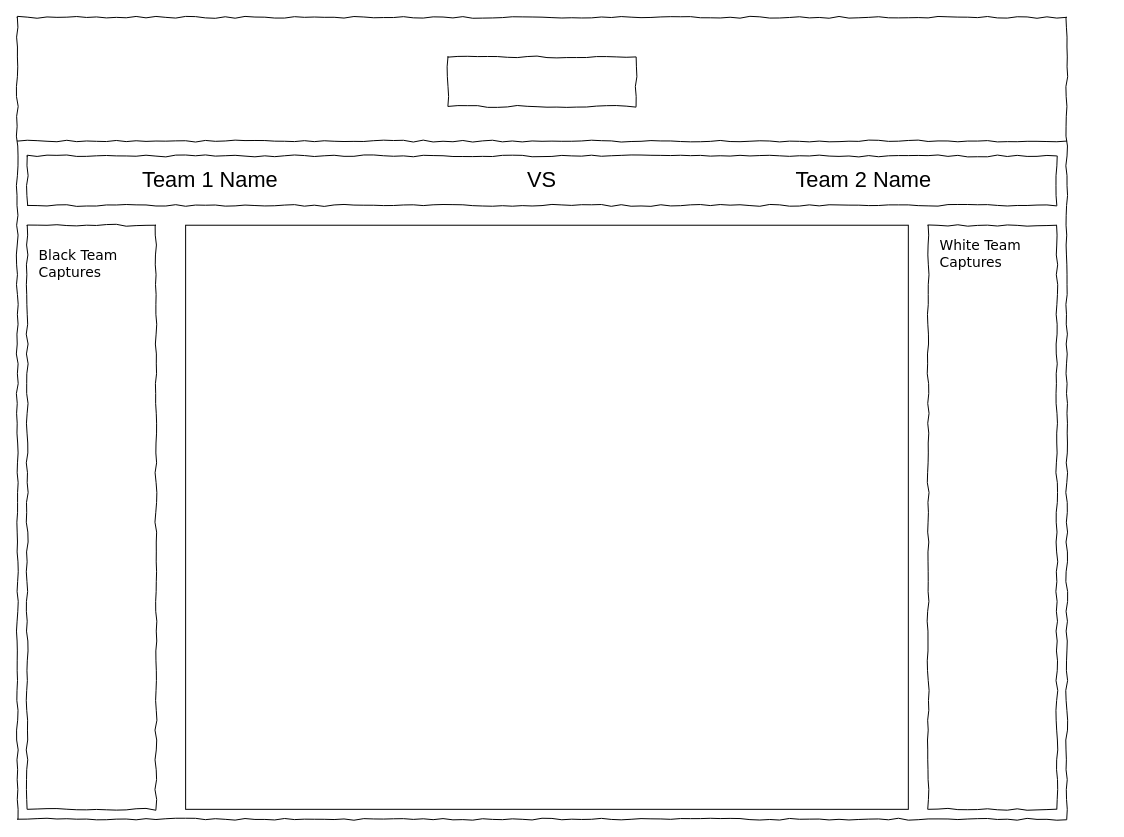
The diagram is 1124 pixels wide and 837 high, and some of its shapes have lost their labels. The shapes that lost their labels are listed below. From the top down, each one's centre as x and y in pixels, then its label:
At pixel 541 81: "LOGO".
At pixel 546 516: "Chess Board".
